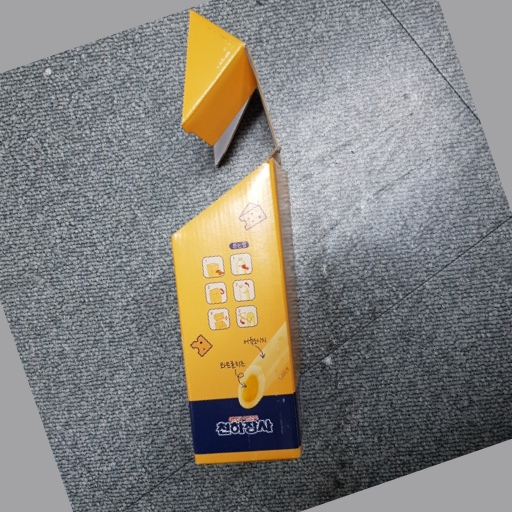Paper_0: (157, 10, 324, 475)
